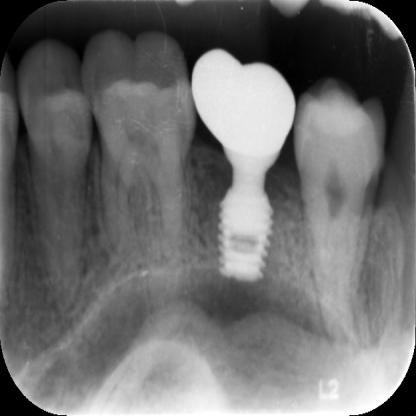Bicon: (219, 145, 278, 281)
